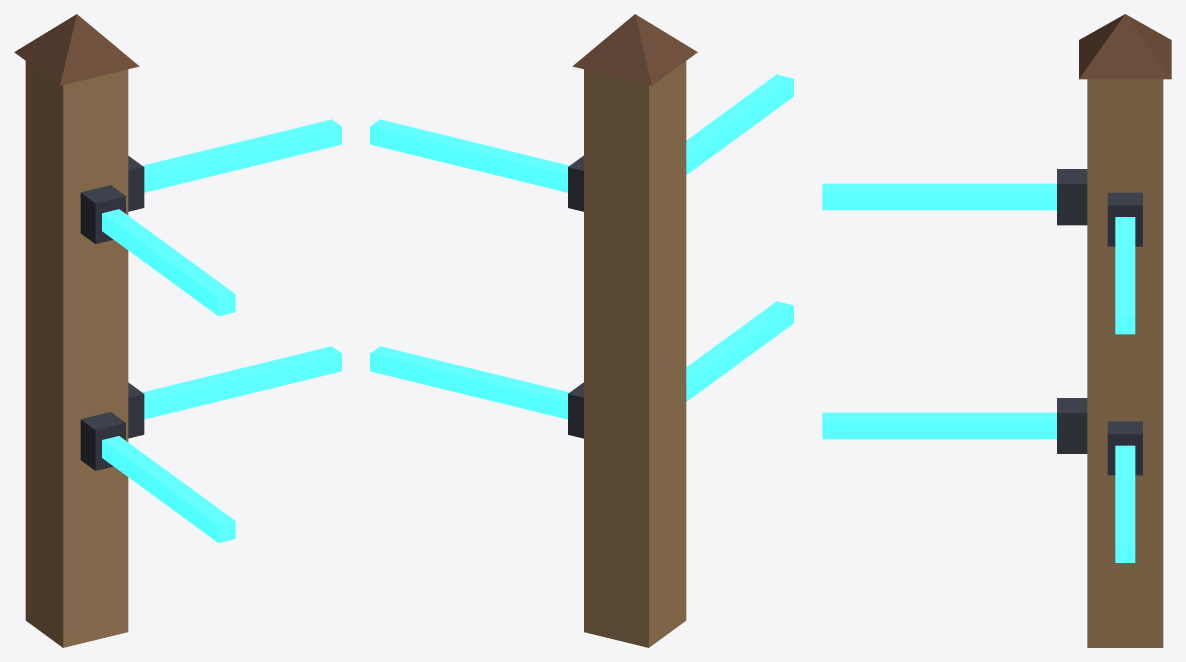
The model's file is Prop_Fence_Laser_Corner.fbx.
3 renders of one model, left to right at view 1: azimuth 30°, elevation 25°; view 2: azimuth 150°, elevation 25°; view 3: azimuth 270°, elevation 25°, orthographic.
Visible parts, largest first — view 1: Prop_Fence_Laser_Corner_Body, Prop_Fence_Laser_Corner_Rail_Stubs; view 2: Prop_Fence_Laser_Corner_Body, Prop_Fence_Laser_Corner_Rail_Stubs; view 3: Prop_Fence_Laser_Corner_Body, Prop_Fence_Laser_Corner_Rail_Stubs.
Boxes of the visible parts, bbox=[...] form: Prop_Fence_Laser_Corner_Body: bbox=[14, 14, 144, 647]; Prop_Fence_Laser_Corner_Rail_Stubs: bbox=[102, 119, 341, 542]; Prop_Fence_Laser_Corner_Body: bbox=[568, 14, 697, 647]; Prop_Fence_Laser_Corner_Rail_Stubs: bbox=[370, 74, 793, 419]; Prop_Fence_Laser_Corner_Body: bbox=[1057, 14, 1171, 647]; Prop_Fence_Laser_Corner_Rail_Stubs: bbox=[822, 183, 1135, 562].
Bounding box in the file's own units: 0.6919 × 1.35 × 0.6919.
